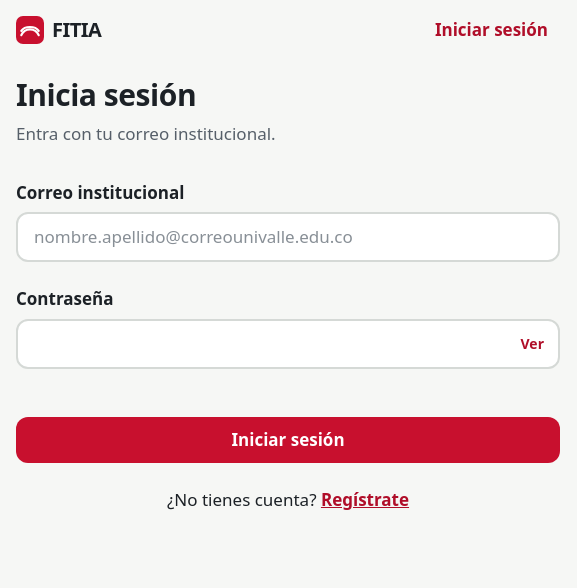
Test: HU 2 — inicio de sesión › RATE_LIMITED informa la espera y deshabilita el botón
This screenshot has width=577, height=588.
Type "ana@correounivalle.edu.co" into the field labelled "Correo institucional" at x=288, y=237, box [16, 212, 560, 262]
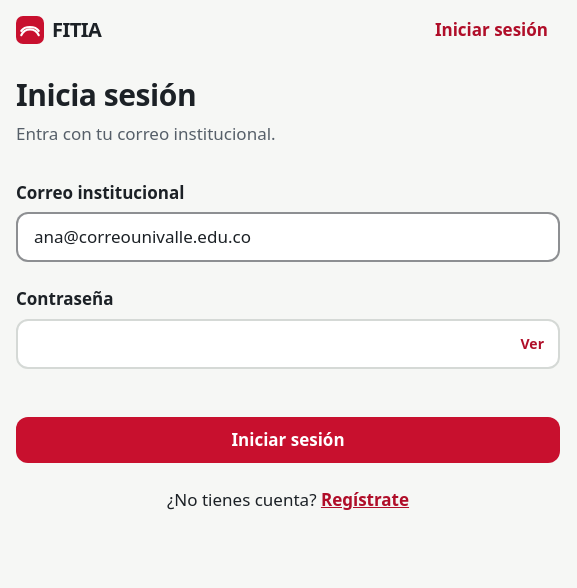
Type "contrasena" into the password field labelled "Contraseña" at x=288, y=344, box [16, 319, 560, 369]
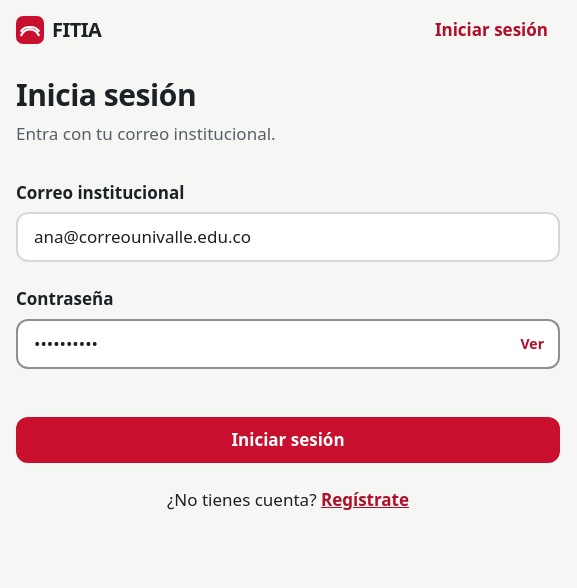
Click the button "Iniciar sesión" at x=288, y=440, box [16, 417, 560, 463]
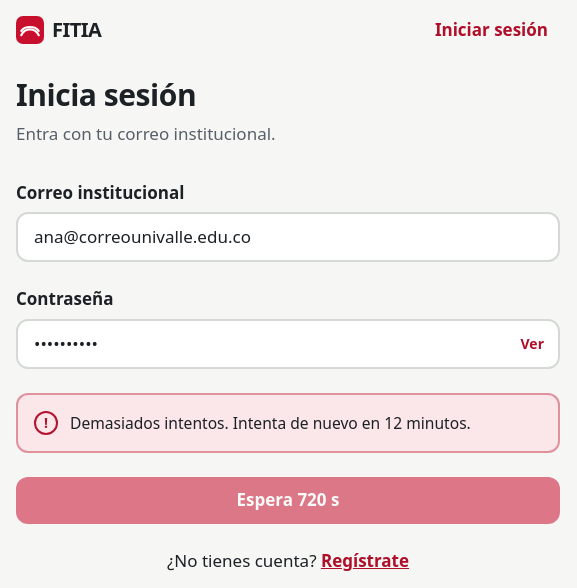
Check: the text "Demasiados intentos. Intenta de nuevo en 12 minutos." is shown, box [70, 412, 471, 434]
Check: the button "Espera 720 s" is disabled, box [16, 477, 560, 524]
